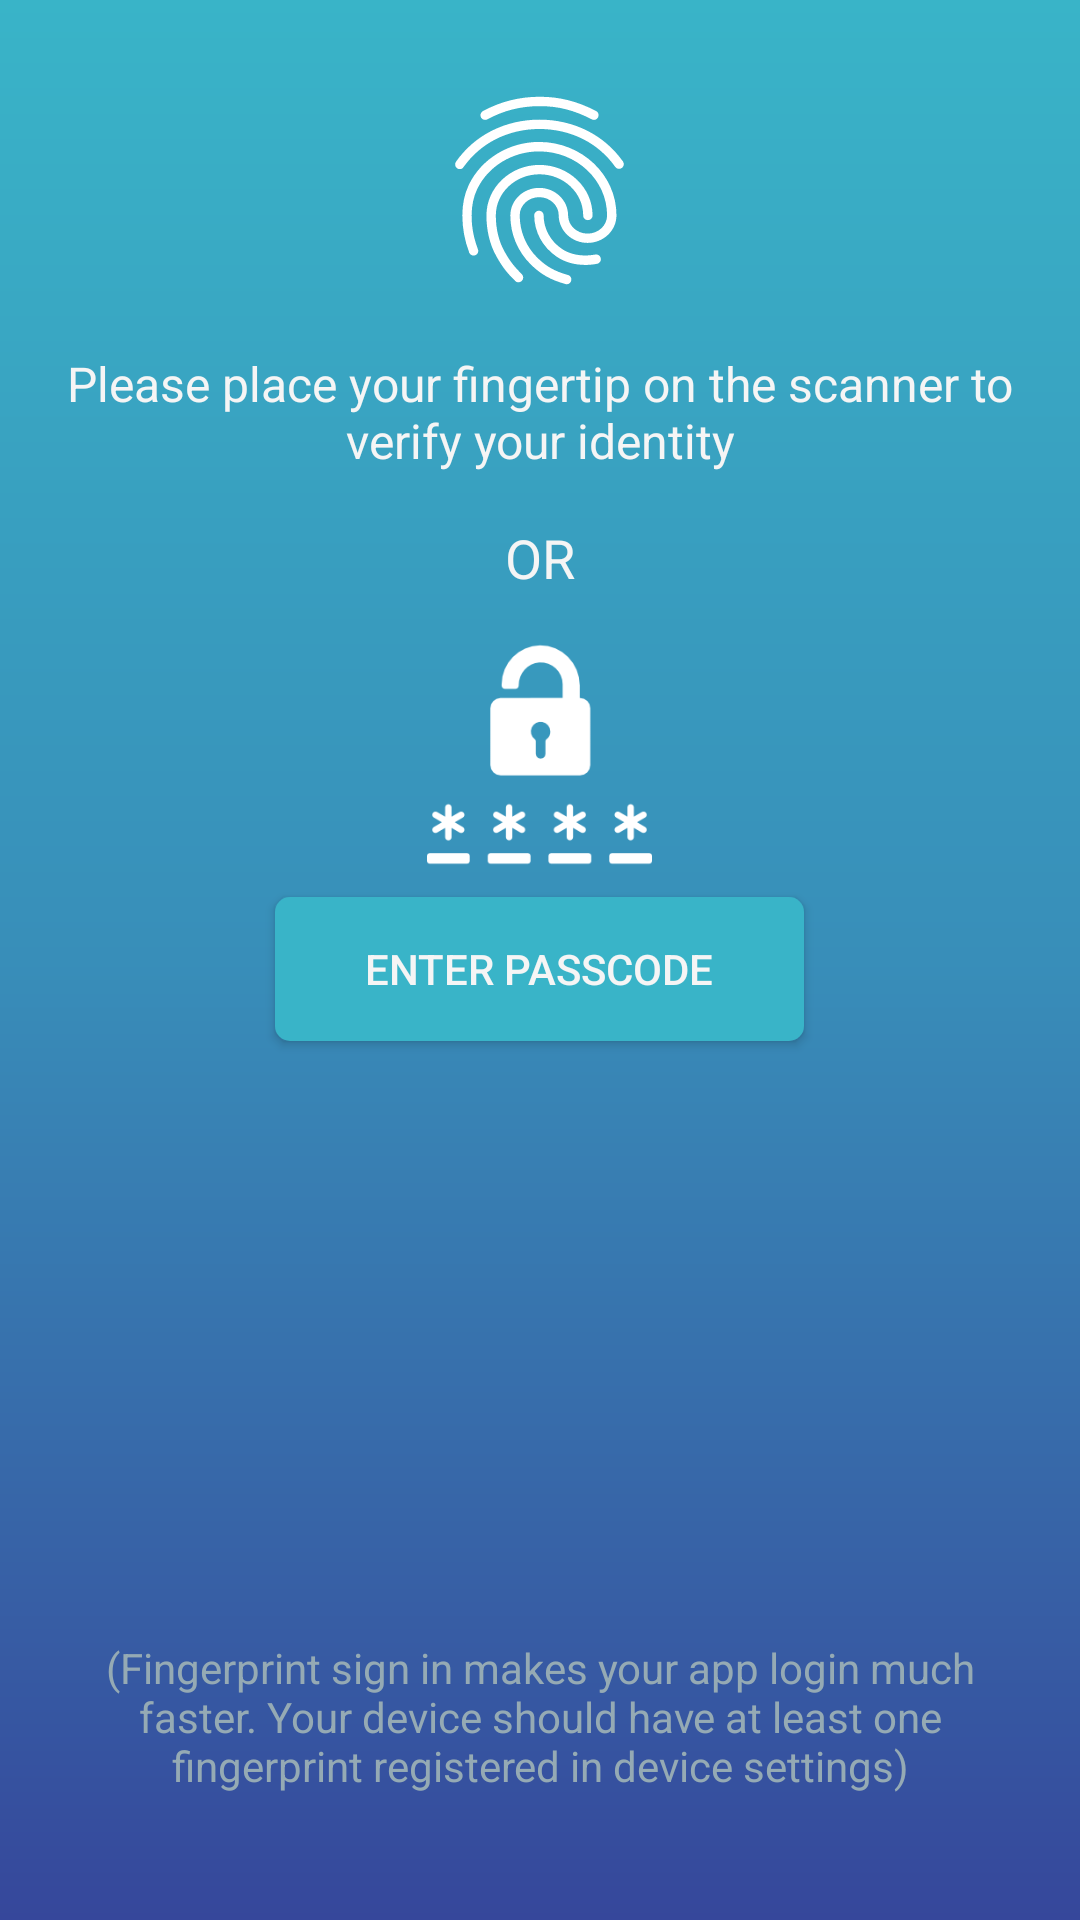

Point at icon controls on the screen. Image size 1080 × 1920, points as [x,y].
fingerprint: [539,190]
password: [539,754]
